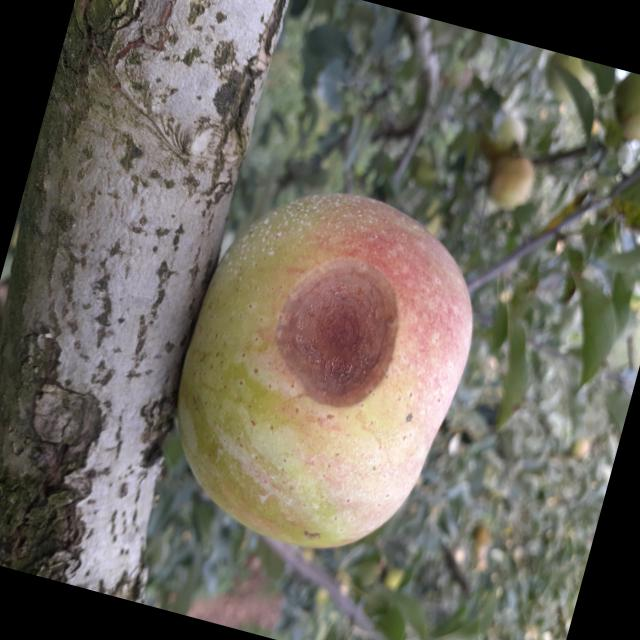rotten: (134, 152, 508, 579)
